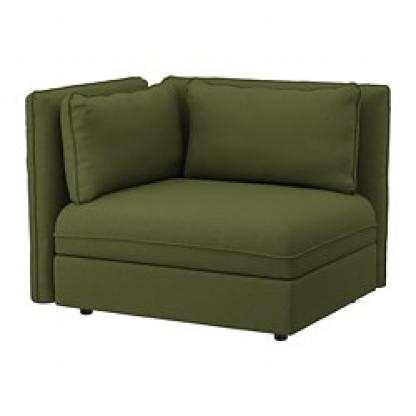Sofa: (12, 38, 394, 358)
